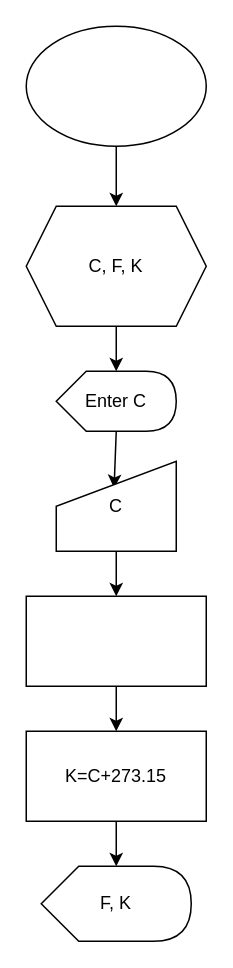
This 233x968 diagram has some shape labels left out. The shapes that lost their labels are listed below. From the top down, each one's centre as x and y in pixels, then its label:
At (115,85): "Start".
At (115,640): "F=(9/5)*C+32".
